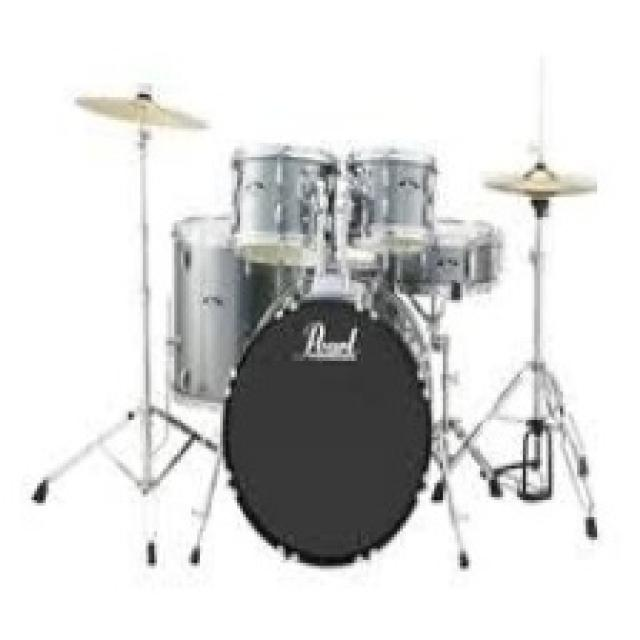drums: (36, 77, 608, 571)
